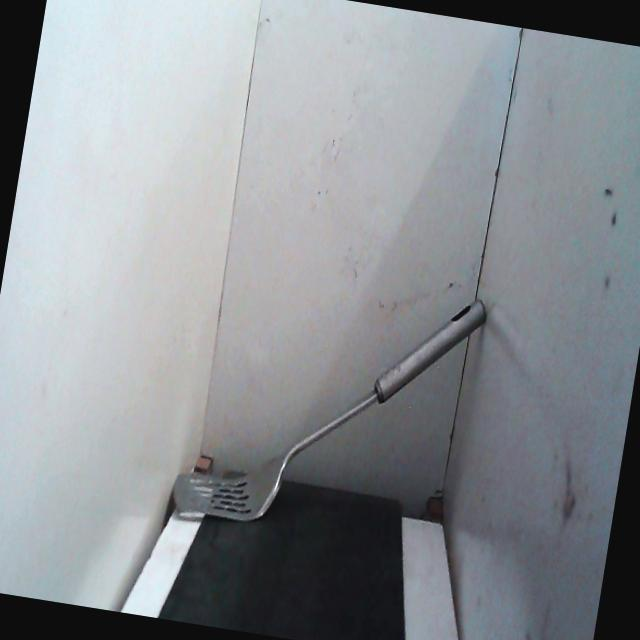metal: (167, 246, 494, 566)
